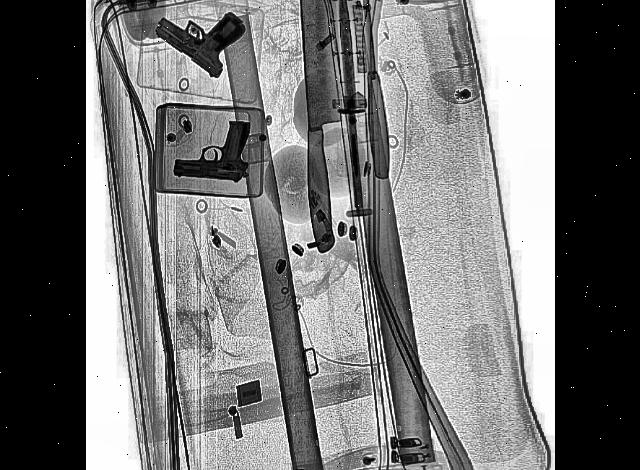Gun: (154, 0, 248, 86), (172, 121, 250, 181)
Knife: (295, 0, 353, 254), (356, 0, 392, 180), (337, 0, 365, 210)
